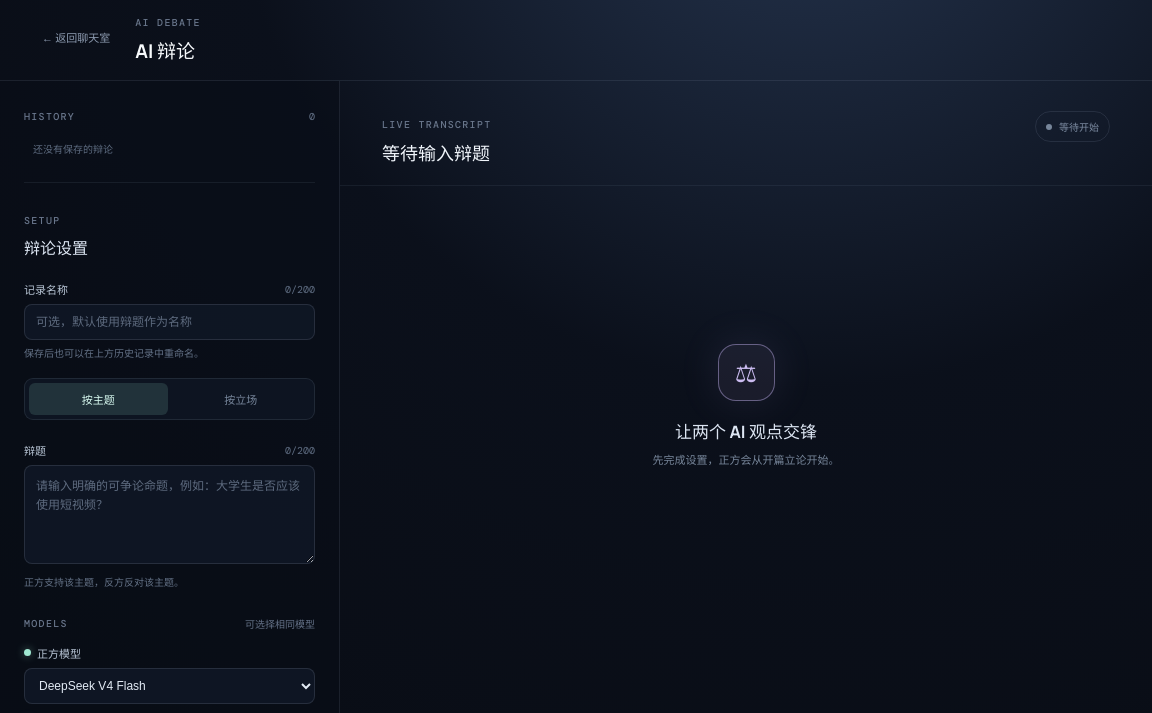
Test: DebatePage › starts with pro and manually advances to con
Type "大学生是否应该使用短视频？" into the text box with placeholder "请输入明确的可争论命题，例如：大学生是否应该使用短视频？" at point(170, 514), box [24,465,315,564]
(page scrolled)
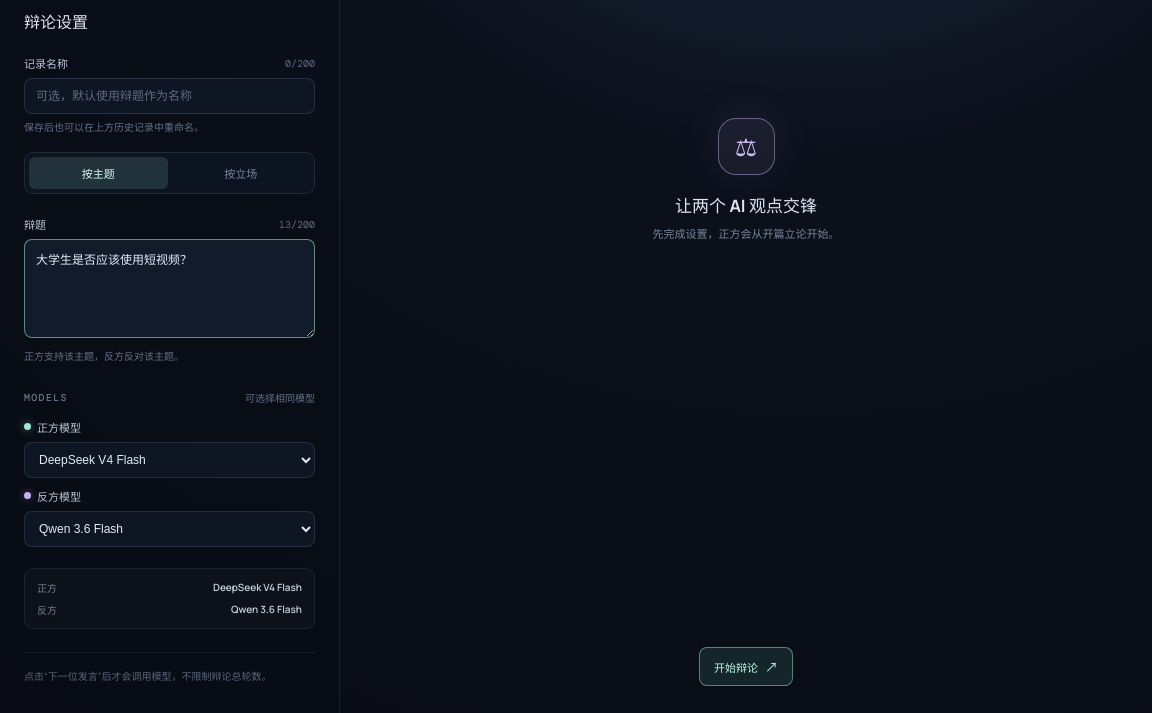
Click the button "开始辩论 ↗" at point(746, 667), box [699,647,793,686]
(page scrolled)
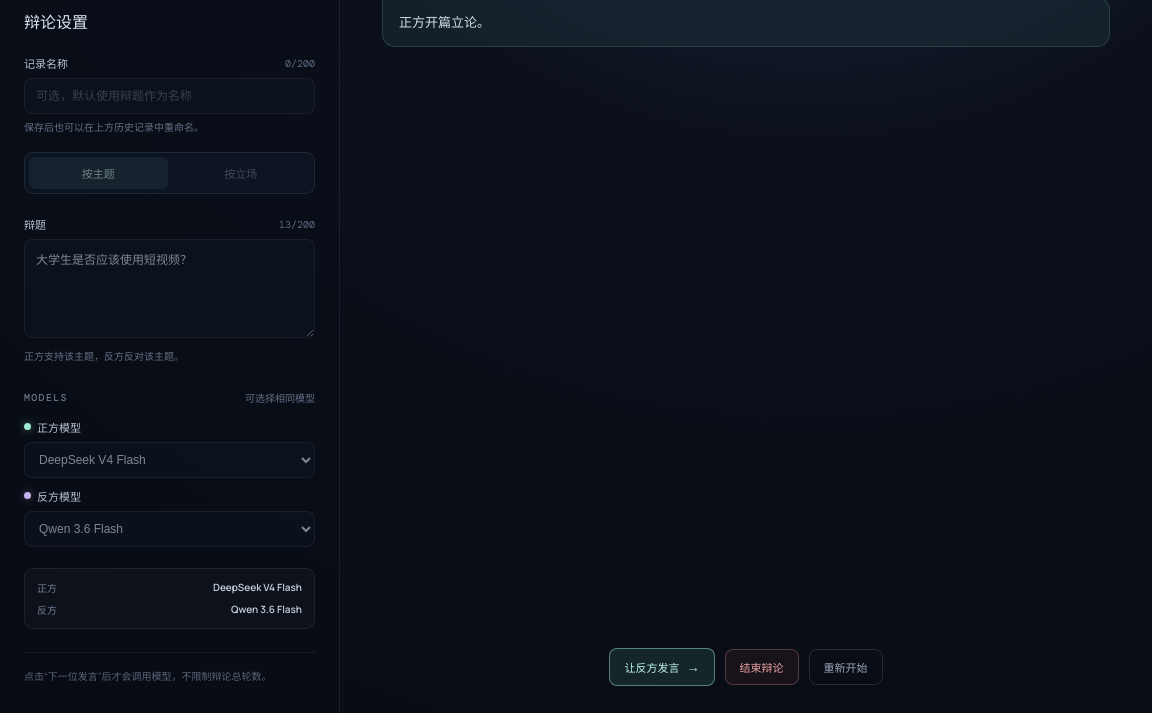
Now the text "正方开篇立论。" is shown, box [399,13,490,31]
Click the button "让反方发言 →" at point(662, 667), box [609,648,715,686]
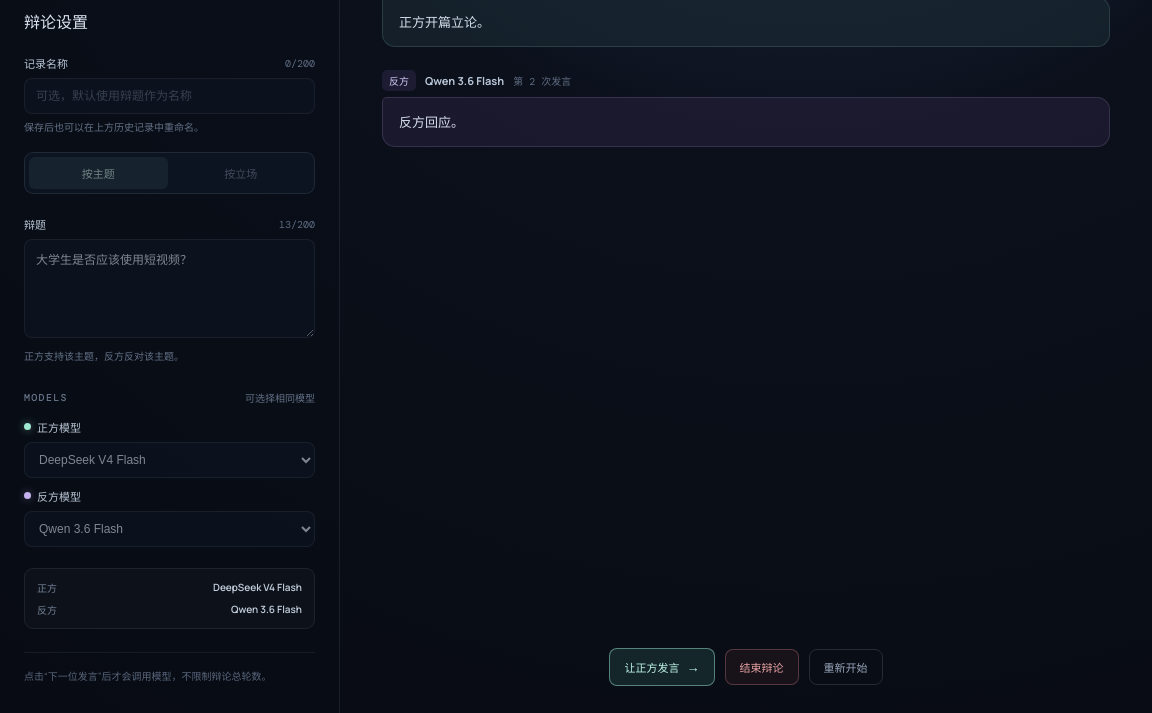
Now the text "反方回应。" is shown, box [399,113,464,131]
